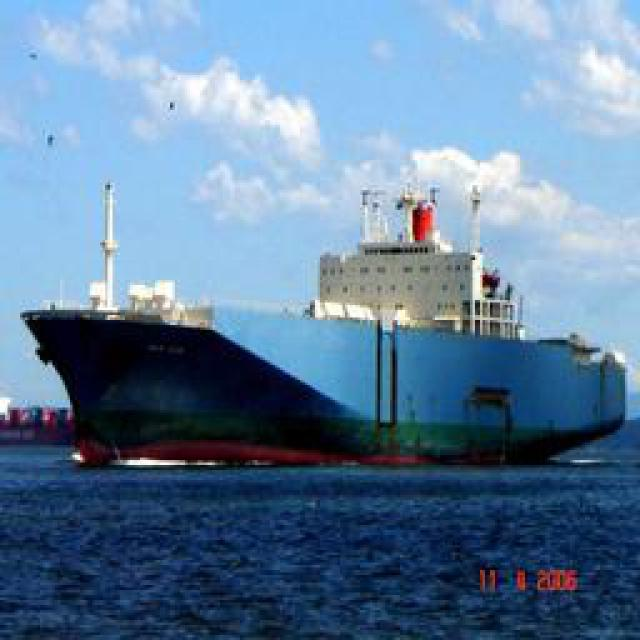Ship: (34, 167, 629, 457)
